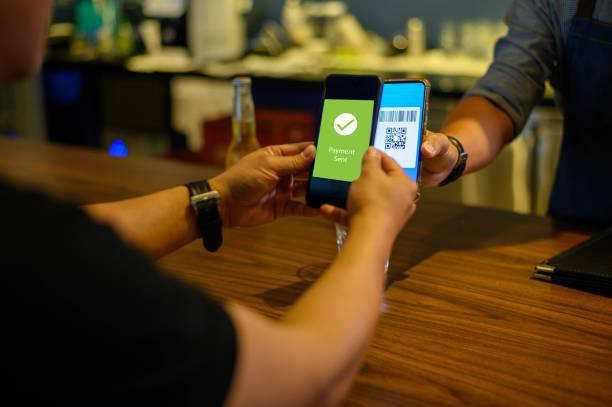Finder pattern: (384, 125, 394, 136), (399, 126, 409, 136), (382, 143, 394, 151)
